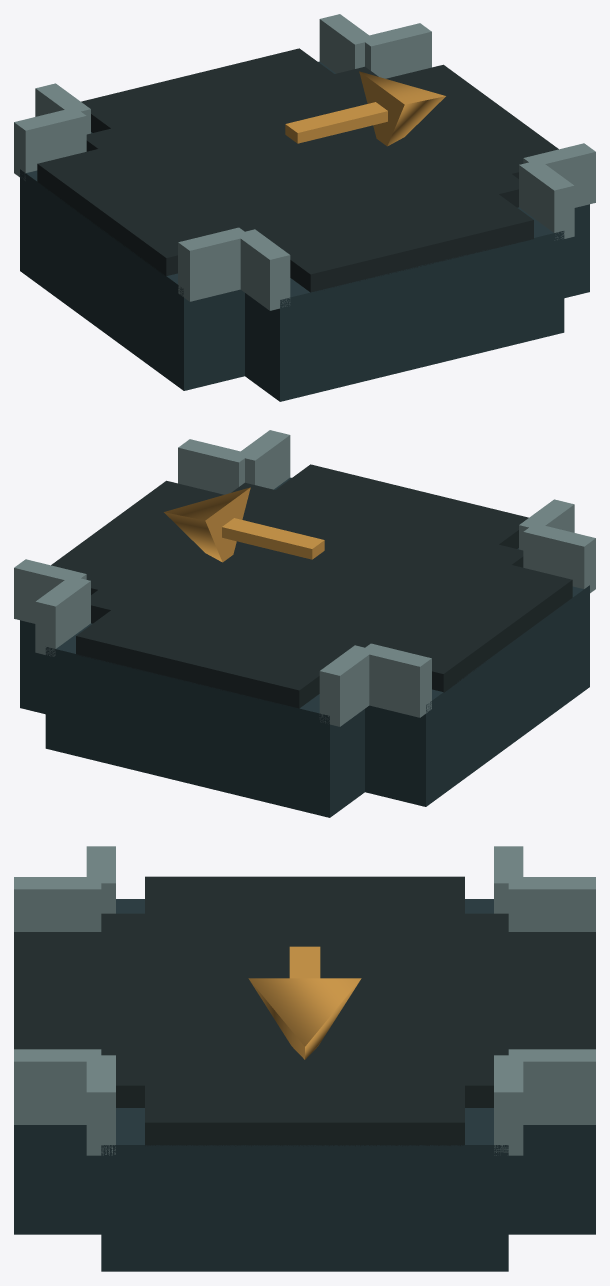
Rendered from belt-14.glb.
3 renders of one model, top to bottom at view 1: azimuth 30°, elevation 25°; view 2: azimuth 150°, elevation 25°; view 3: azimuth 270°, elevation 25°, orthographic. The views are drawn at different scales.
Visible parts, largest first — view 1: Batched static factory; view 2: Batched static factory; view 3: Batched static factory.
Part boxes in pixels (x1,y1,x2,y2): Batched static factory: [14, 14, 595, 401]; Batched static factory: [14, 430, 595, 817]; Batched static factory: [14, 846, 595, 1271].
Size of the model in its own units: 1 by 0.4111 by 1.
